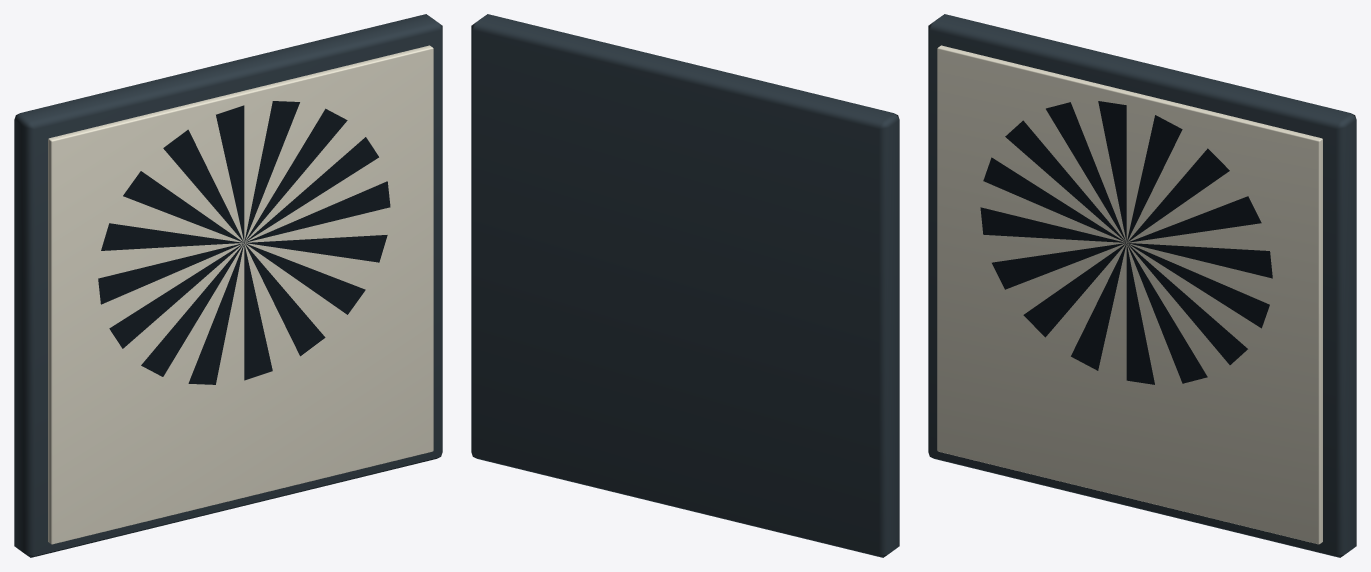
Rendered from P076_focus_chart_rebuilt.glb.
The picture shows the model from 3 angles, left to right: view 1: azimuth 30°, elevation 25°; view 2: azimuth 150°, elevation 25°; view 3: azimuth 330°, elevation 25°; orthographic projection.
Visible parts, largest first — view 1: white, shell, dark; view 2: shell; view 3: white, shell, dark.
Part boxes in pixels (x1,y1,x2,y2): white: (48, 45, 433, 544); shell: (14, 14, 442, 557); dark: (98, 101, 390, 384); shell: (471, 14, 899, 557); white: (937, 45, 1322, 544); shell: (928, 14, 1356, 557); dark: (980, 101, 1272, 384).
Size of the model in its own units: 0.26 by 0.26 by 0.0275.
